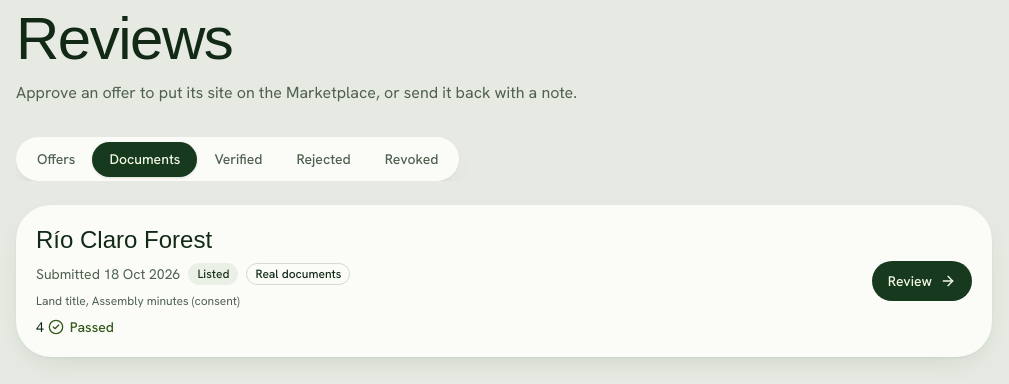
Test: ReviewQueueScreen decided views (#211) › opens a decided view, newest first, and links each row to its review
expect the list named "Listings waiting for review" is shown: met, box [16,205,992,357]
Press the mouse on the tab "Verified" at (238, 159), box [198,142,279,176]
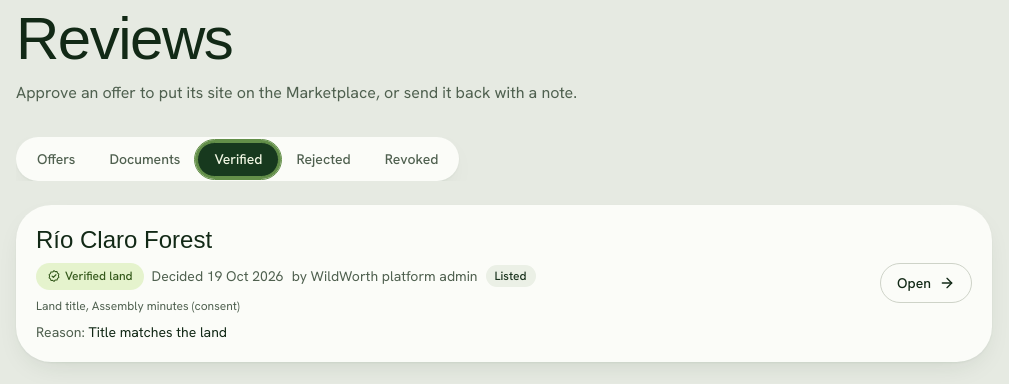
expect the heading "Río Claro Forest" is shown: met, box [36,226,212,253]
expect the text "Title matches the land" is shown: met, box [88,322,227,340]
expect the text "by WildWorth platform admin" is shown: met, box [292,266,478,286]
